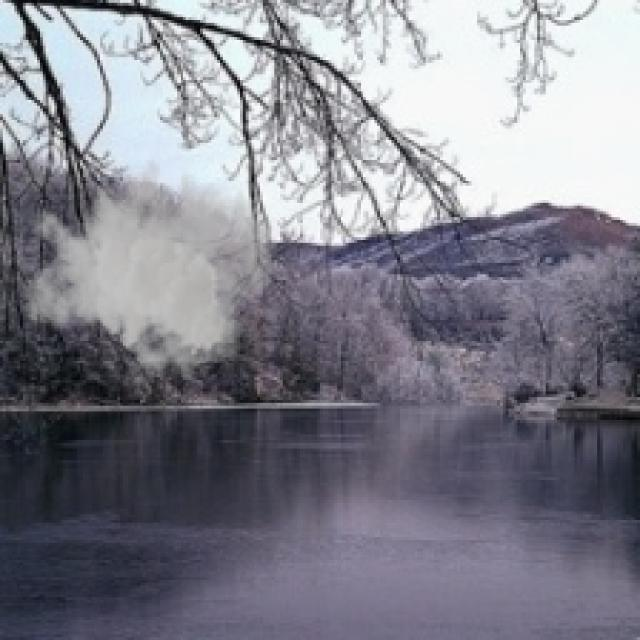smoke: (20, 146, 277, 383)
